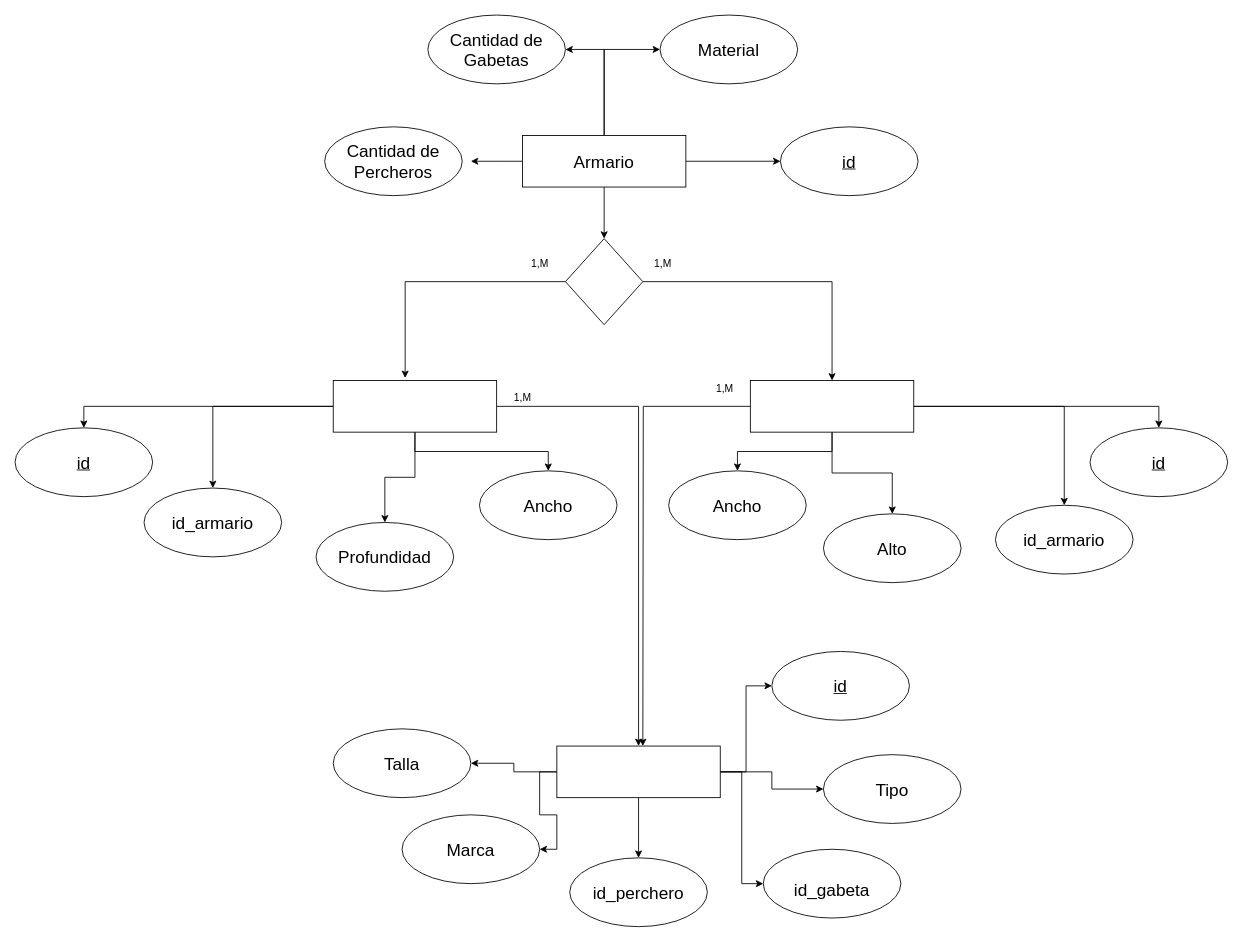
The diagram is 1243 pixels wide and 942 high, and some of its shapes have lost their labels. Here are the shapes that lost their labels. From the top down, the centre of each, then its label:
point 604,281: Tiene
point 414,406: Gabeta
point 831,406: Perchero
point 638,771: Vestimenta
